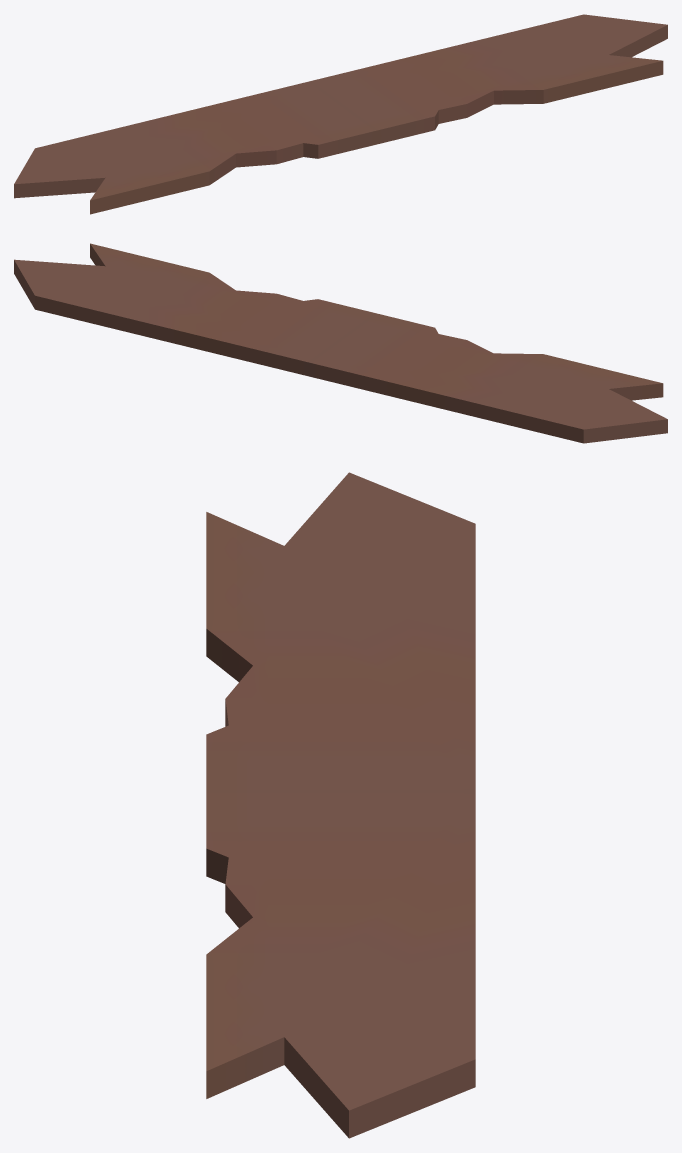
File: Plank.fbx
3 views of the same model, one above another, from view 1: azimuth 30°, elevation 25°; view 2: azimuth 150°, elevation 25°; view 3: azimuth 270°, elevation 25° (orthographic). The views are drawn at different scales.
Visible parts, largest first — view 1: Plank; view 2: Plank; view 3: Plank.
Boxes of the visible parts, x1,y1,x2,y2 form: Plank: (14,14,667,214); Plank: (14,243,667,443); Plank: (206,472,475,1138).
Size of the model in its own units: 142 by 2.89 by 25.24.
